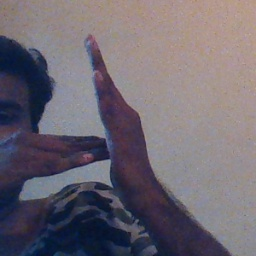Z: (31, 27, 155, 194)
